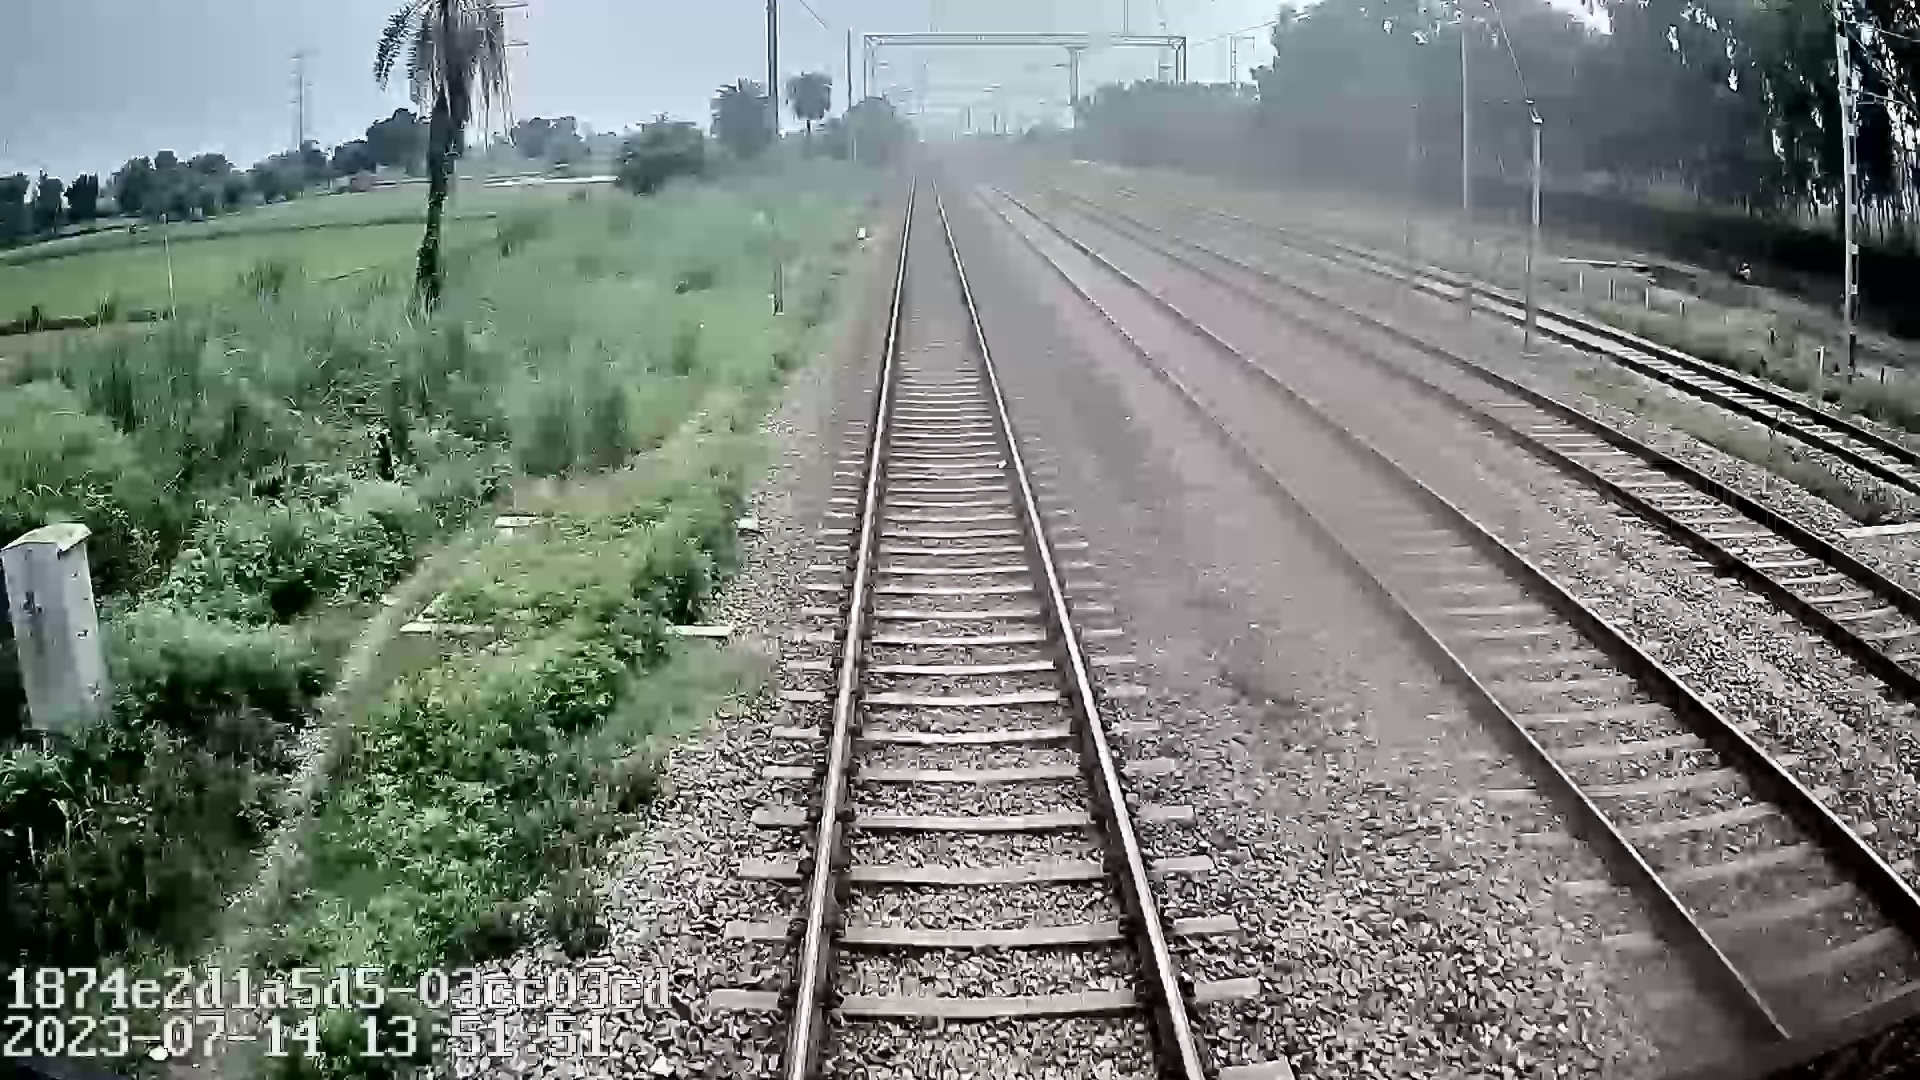track1: (798, 196, 1189, 1055)
track2: (1004, 215, 1904, 1027)
track3: (1193, 257, 1911, 671)
track4: (1360, 261, 1908, 477)
